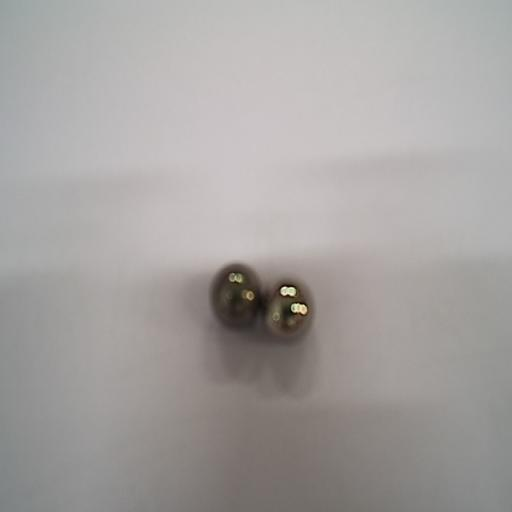steel-ball: (210, 257, 264, 336), (266, 272, 318, 342)
